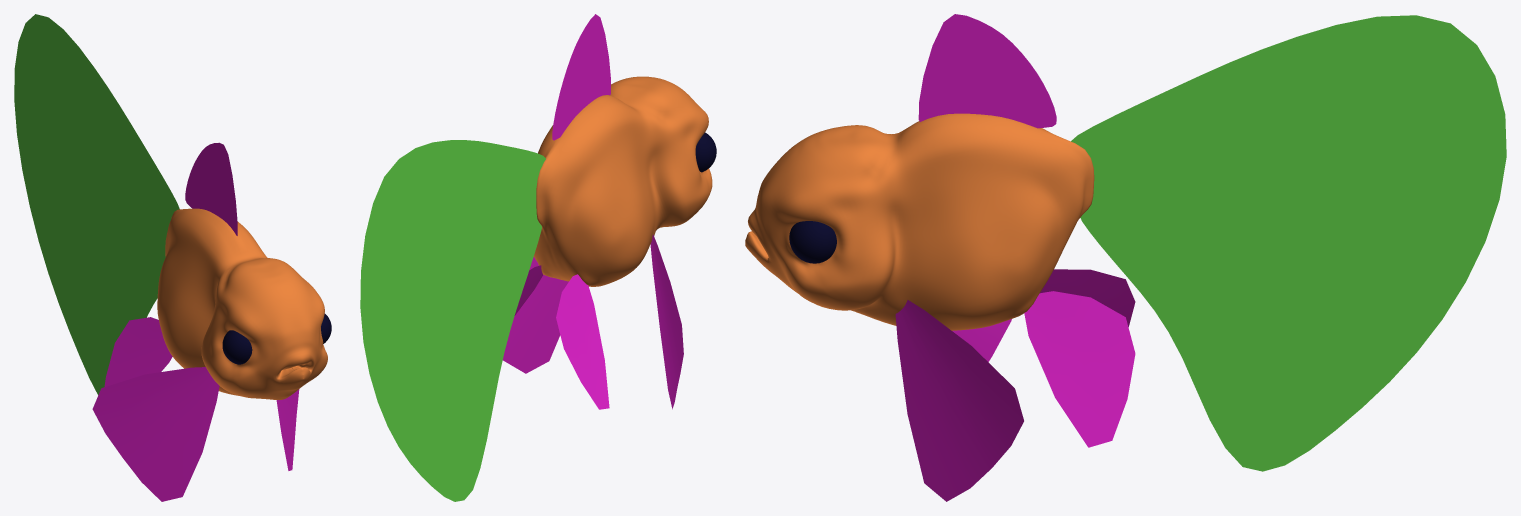
Rendered from FISH FOR TEXTURE3 .fbx.
3 views of the same model, side by side, from view 1: azimuth 30°, elevation 25°; view 2: azimuth 150°, elevation 25°; view 3: azimuth 270°, elevation 25° (orthographic). The views are drawn at different scales.
Parts seen in each view (by area): view 1: tail, body, back fin R, Eye R; view 2: tail, body, back fin R, Eye R; view 3: tail, body, back fin R, Eye L.
Part boxes in pixels (box(x1,y1,x2,y2)): tail: box(14, 14, 179, 394); body: box(157, 208, 327, 399); back fin R: box(92, 142, 299, 501); Eye R: box(222, 330, 252, 364); tail: box(360, 140, 545, 501); body: box(534, 76, 712, 286); back fin R: box(503, 14, 683, 409); Eye R: box(695, 132, 716, 172); tail: box(1071, 15, 1506, 471); body: box(745, 113, 1094, 330); back fin R: box(895, 14, 1135, 501); Eye L: box(789, 221, 836, 263).
Bounding box in the file's own units: 9.19 × 14.53 × 21.91.
